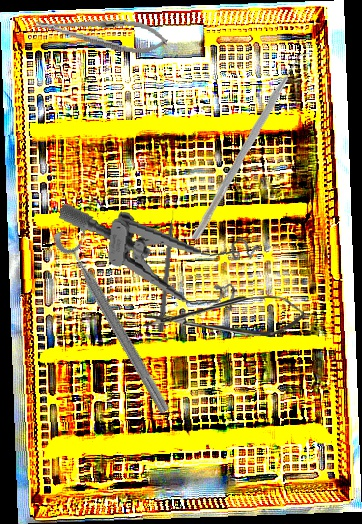Chopper: (185, 52, 325, 240)
Fixation Ring: (50, 219, 186, 418)
Micro Scissor: (143, 296, 304, 336)
Needle Holder: (33, 6, 170, 59)
Pusher: (157, 202, 179, 333)
Speculum: (50, 202, 262, 315)
